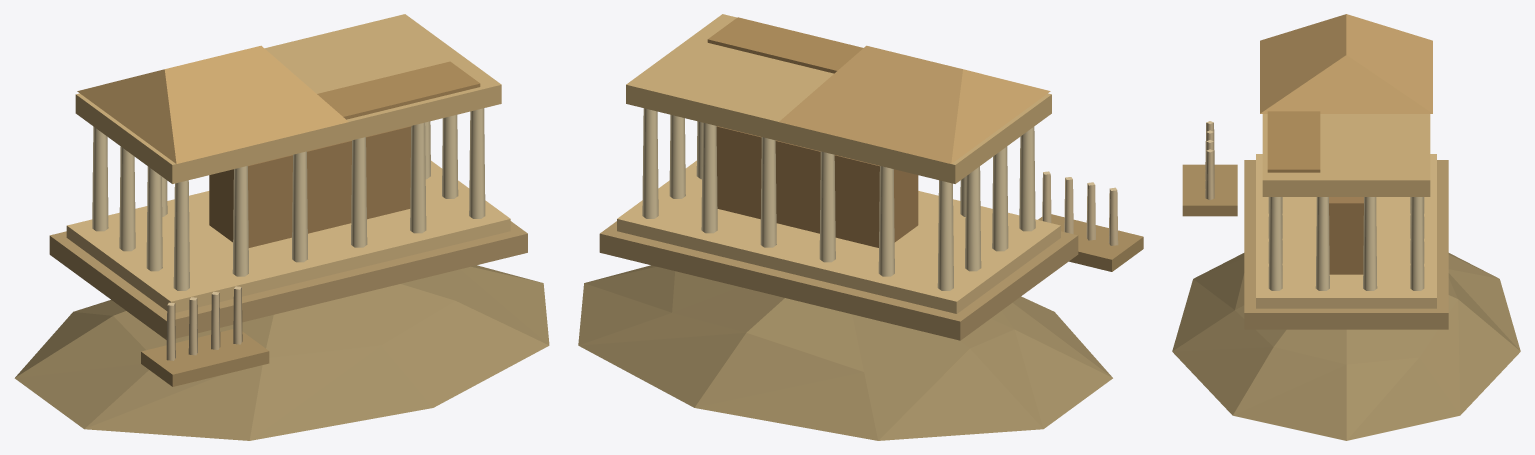
File: acropolis.glb
3 renders of one model, left to right at view 1: azimuth 30°, elevation 25°; view 2: azimuth 150°, elevation 25°; view 3: azimuth 270°, elevation 25°, orthographic. The views are drawn at different scales.
Visible parts, largest first — view 1: base_9C9A7F, base_D8C9AA, body_CDBD99, roof_CAB996, body_DED1AF, body_B5A486, base_C2B493, roof_C4B08C, base_BEAD8F, body_D6C8A6; view 2: base_9C9A7F, base_D8C9AA, body_CDBD99, roof_CAB996, body_DED1AF, base_C2B493, body_B5A486, roof_C4B08C, base_BEAD8F, body_D6C8A6; view 3: base_9C9A7F, roof_CAB996, base_D8C9AA, body_CDBD99, base_C2B493, body_DED1AF, roof_C4B08C, body_B5A486, base_BEAD8F, body_D6C8A6.
Part boxes in pixels (x1,y1,x2,y2): base_9C9A7F: (14, 265, 549, 440); base_D8C9AA: (66, 160, 510, 312); body_CDBD99: (75, 14, 501, 183); roof_CAB996: (77, 45, 348, 163); body_DED1AF: (92, 108, 485, 290); body_B5A486: (209, 126, 411, 247); base_C2B493: (49, 221, 527, 339); roof_C4B08C: (317, 61, 480, 119); base_BEAD8F: (141, 329, 269, 386); body_D6C8A6: (166, 286, 242, 360); base_9C9A7F: (578, 265, 1112, 440); base_D8C9AA: (617, 160, 1060, 313); body_CDBD99: (626, 14, 1051, 183); roof_CAB996: (779, 45, 1050, 163); body_DED1AF: (642, 108, 1035, 290); base_C2B493: (599, 221, 1078, 340); body_B5A486: (716, 126, 918, 247); roof_C4B08C: (707, 17, 863, 73); base_BEAD8F: (1038, 214, 1143, 271); body_D6C8A6: (1042, 171, 1118, 245); base_9C9A7F: (1172, 253, 1520, 440); roof_CAB996: (1260, 14, 1432, 113); base_D8C9AA: (1256, 154, 1436, 308); body_CDBD99: (1262, 114, 1430, 196); base_C2B493: (1244, 160, 1448, 329); body_DED1AF: (1268, 197, 1424, 290); roof_C4B08C: (1267, 111, 1320, 172); body_B5A486: (1329, 197, 1363, 274); base_BEAD8F: (1182, 164, 1237, 216); body_D6C8A6: (1205, 121, 1214, 200).
Size of the model in its own units: 1 by 0.5922 by 0.703.
